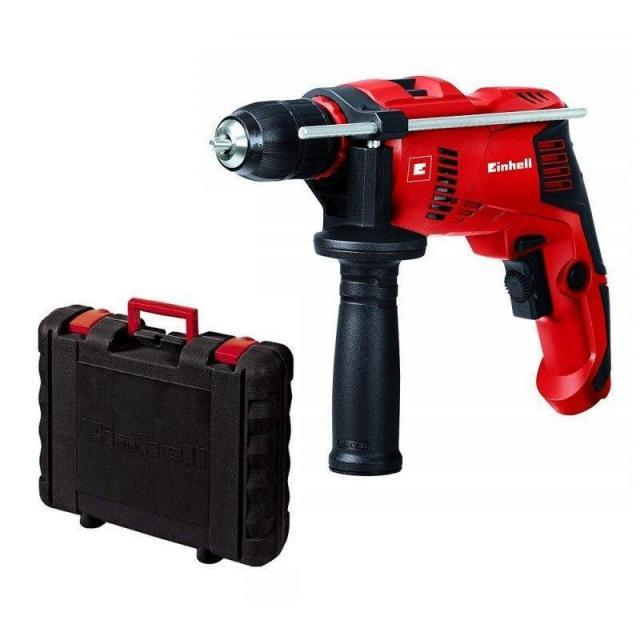drill: (209, 75, 612, 478)
